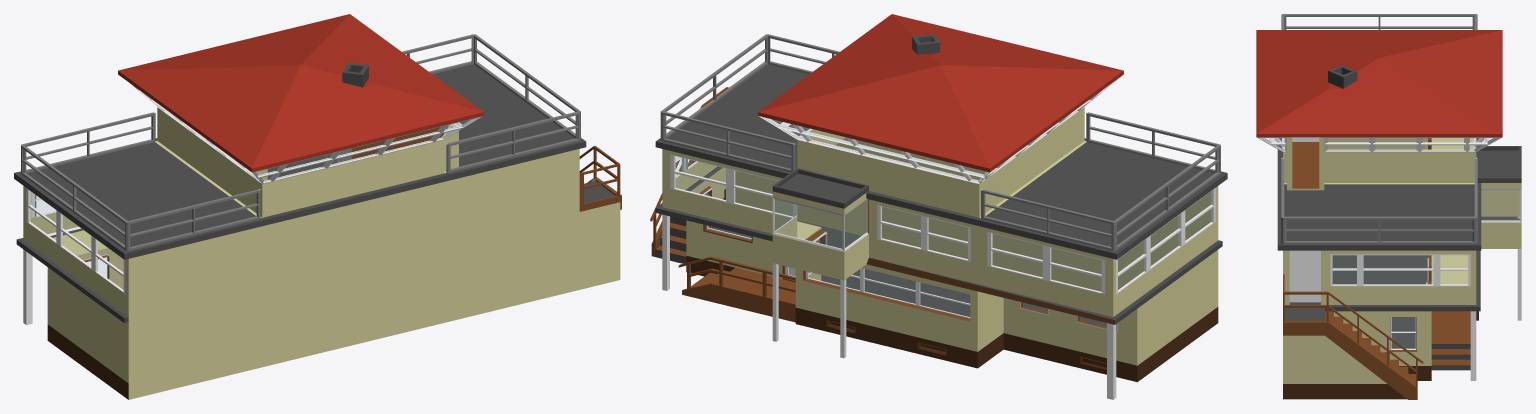
The model's file is stand.obj.
3 renders of one model, left to right at view 1: azimuth 30°, elevation 25°; view 2: azimuth 150°, elevation 25°; view 3: azimuth 270°, elevation 25°, orthographic. The views are drawn at different scales.
Visible parts, largest first — view 1: stand; view 2: stand; view 3: stand.
Boxes of the visible parts, bbox=[...] form: stand: bbox=[14, 14, 621, 399]; stand: bbox=[650, 14, 1227, 399]; stand: bbox=[1256, 14, 1521, 399].
Bounding box in the file's own units: 25.74 × 12 × 12.87.
